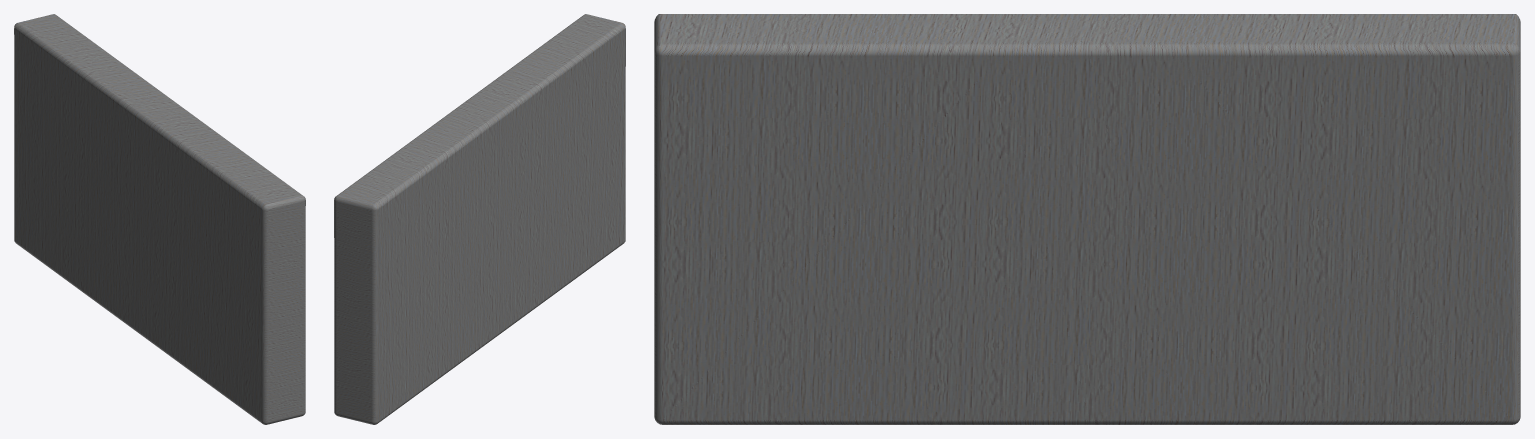
Rendered from plainWallBlock.fbx.
The picture shows the model from 3 angles, left to right: view 1: azimuth 30°, elevation 25°; view 2: azimuth 150°, elevation 25°; view 3: azimuth 270°, elevation 25°; orthographic projection. The views are drawn at different scales.
Parts seen in each view (by area): view 1: pCube7; view 2: pCube7; view 3: pCube7.
Boxes of the visible parts, bbox=[...] form: pCube7: bbox=[14, 14, 305, 424]; pCube7: bbox=[334, 14, 625, 424]; pCube7: bbox=[654, 14, 1520, 424].
Bounding box in the file's own units: 4.69 × 22.64 × 46.72.
